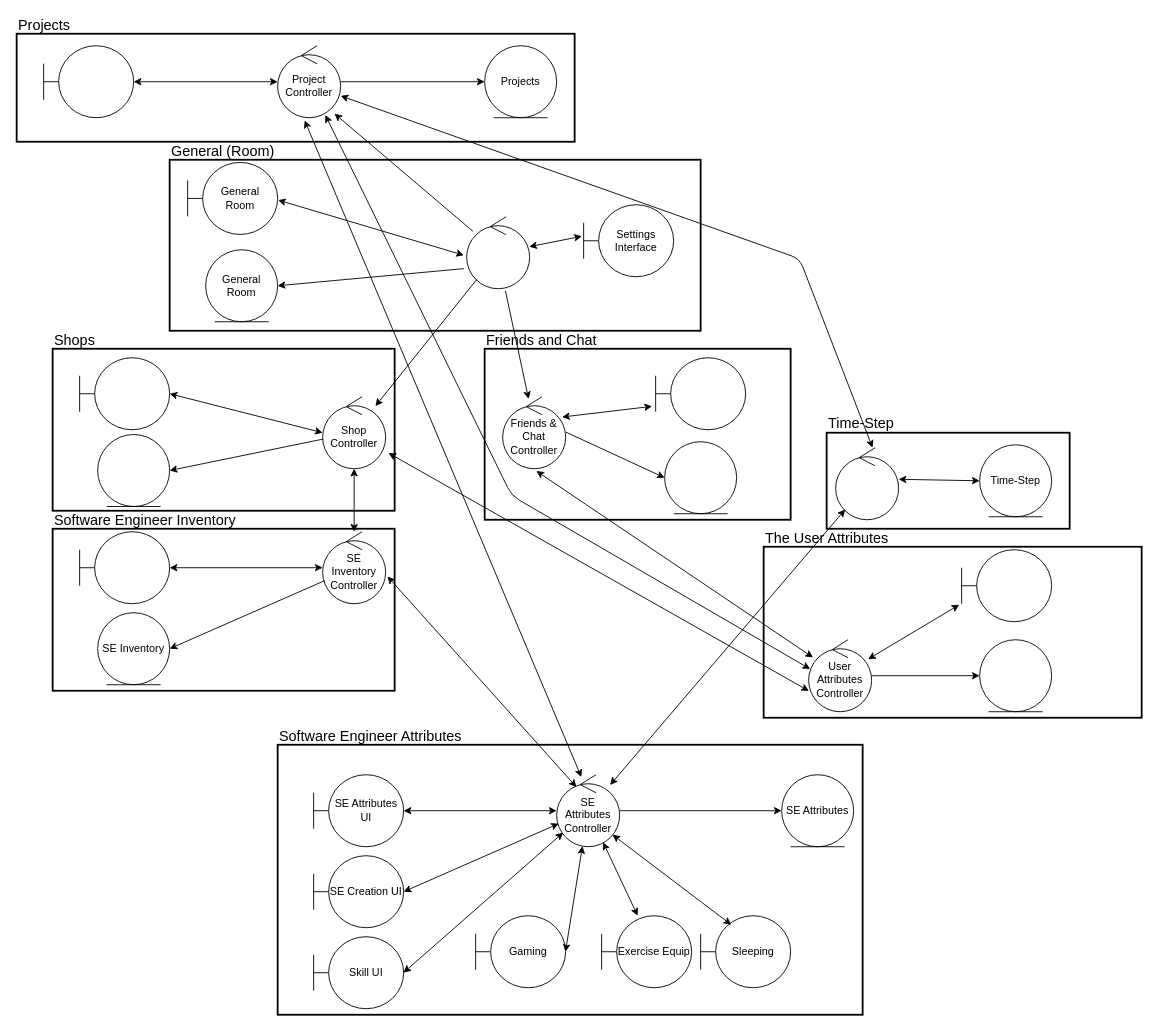
Image size: 1157x1031. Some labels were removed from this diagram. Each missing label, with the centre of its shape:
Chat History: point 700,477
Friend Messaging UI: point 700,393
General Room Controller: point 498,252
Project UI: point 88,81
SE Inventory UI: point 124,567
Shop: point 133,470
Shop UI: point 124,393
Time-Step Controller: point 867,483
User Attributes: point 1015,675
User Information Interface: point 1006,585
